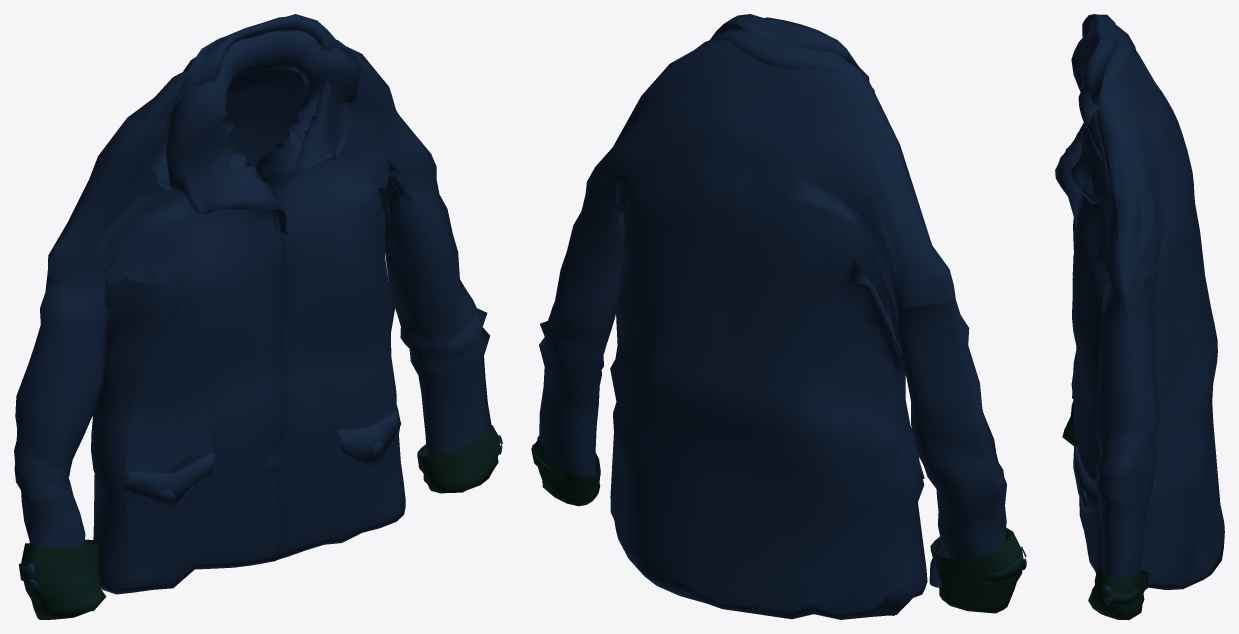
Rendered from Veste_bis.fbx.
3 renders of one model, left to right at view 1: azimuth 30°, elevation 25°; view 2: azimuth 150°, elevation 25°; view 3: azimuth 270°, elevation 25°, orthographic. The views are drawn at different scales.
Visible parts, largest first — view 1: Jacket.011; view 2: Jacket.011; view 3: Jacket.011.
Boxes of the visible parts, box(x1,y1,x2,y2) form: Jacket.011: box(14, 14, 502, 619); Jacket.011: box(531, 14, 1026, 619); Jacket.011: box(1055, 14, 1224, 619).
Size of the model in its own units: 64.11 by 69.45 by 20.56.
